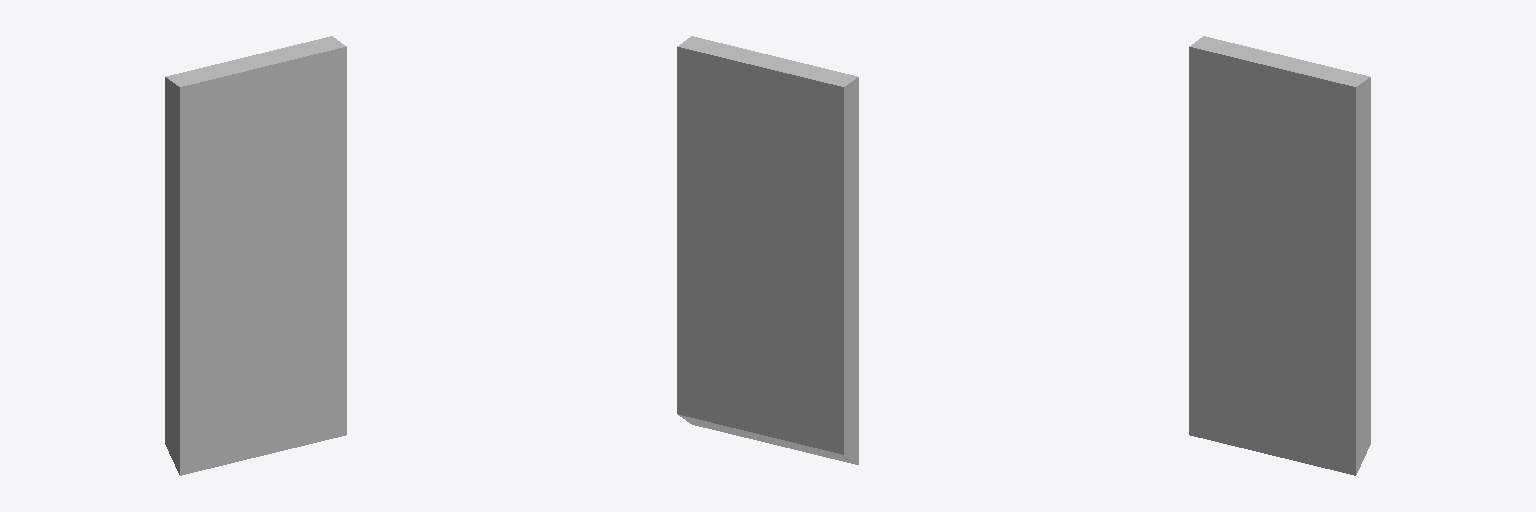
Rendered from SingleDoor.obj.
3 views of the same model, side by side, from view 1: azimuth 30°, elevation 25°; view 2: azimuth 150°, elevation 25°; view 3: azimuth 330°, elevation 25° (orthographic).
Visible parts, largest first — view 1: CoreMaterialBuild.244_Cube.466; view 2: CoreMaterialBuild.244_Cube.466; view 3: CoreMaterialBuild.244_Cube.466.
Boxes of the visible parts, box(x1,y1,x2,y2) form: CoreMaterialBuild.244_Cube.466: box(165, 36, 346, 475); CoreMaterialBuild.244_Cube.466: box(677, 36, 858, 464); CoreMaterialBuild.244_Cube.466: box(1189, 36, 1370, 475).
Bounding box in the file's own units: 0.7932 × 1.76 × 0.1193.